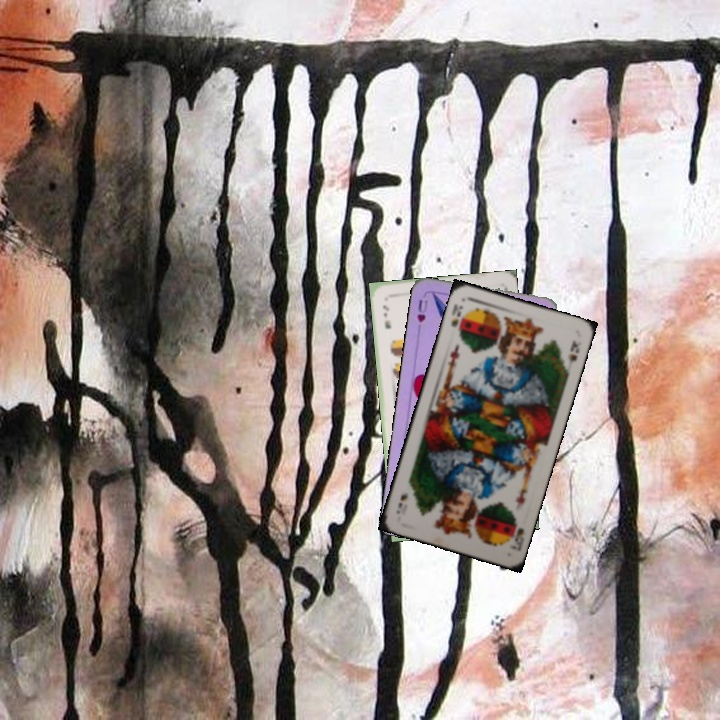E7: (379, 301, 393, 331)
HU: (413, 295, 431, 325)
SK: (505, 524, 527, 553), (447, 300, 465, 330)
